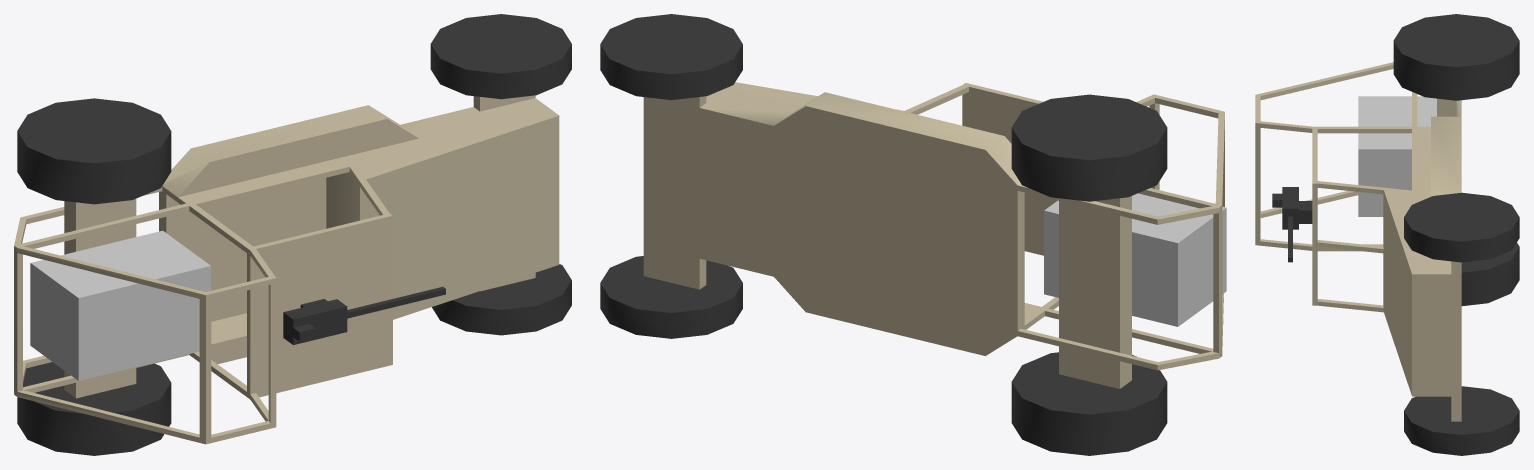
File: lsv.dae
The picture shows the model from 3 angles, left to right: view 1: azimuth 30°, elevation 25°; view 2: azimuth 150°, elevation 25°; view 3: azimuth 270°, elevation 25°; orthographic projection. The views are drawn at different scales.
Visible parts, largest first — view 1: coords_ME_ID3_MA_LSV_part_1, coords_ME_ID39_MA_LSV_part_4, coords_ME_ID19_MA_LSV_part_2, coords_ME_ID11_MA_LSV_part_2, coords_ME_ID53_MA_LSV_part_2, coords_ME_ID25_MA_LSV_part_2, coords_ME_ID59_MA_LSV_part_3, coords_ME_ID47_MA_LSV_part_3; view 2: coords_ME_ID3_MA_LSV_part_1, coords_ME_ID19_MA_LSV_part_2, coords_ME_ID53_MA_LSV_part_2, coords_ME_ID39_MA_LSV_part_4, coords_ME_ID11_MA_LSV_part_2, coords_ME_ID25_MA_LSV_part_2; view 3: coords_ME_ID3_MA_LSV_part_1, coords_ME_ID19_MA_LSV_part_2, coords_ME_ID11_MA_LSV_part_2, coords_ME_ID25_MA_LSV_part_2, coords_ME_ID39_MA_LSV_part_4, coords_ME_ID53_MA_LSV_part_2, coords_ME_ID59_MA_LSV_part_3, coords_ME_ID31_MA_LSV_part_3.
Part boxes in pixels (x1,y1,x2,y2): coords_ME_ID3_MA_LSV_part_1: (14, 95, 559, 444); coords_ME_ID39_MA_LSV_part_4: (30, 230, 210, 380); coords_ME_ID19_MA_LSV_part_2: (17, 98, 171, 204); coords_ME_ID11_MA_LSV_part_2: (430, 14, 571, 99); coords_ME_ID53_MA_LSV_part_2: (17, 362, 171, 455); coords_ME_ID25_MA_LSV_part_2: (432, 264, 571, 335); coords_ME_ID59_MA_LSV_part_3: (283, 299, 347, 344); coords_ME_ID47_MA_LSV_part_3: (347, 286, 445, 318); coords_ME_ID3_MA_LSV_part_1: (643, 82, 1224, 388); coords_ME_ID19_MA_LSV_part_2: (1011, 94, 1167, 201); coords_ME_ID53_MA_LSV_part_2: (1011, 352, 1167, 455); coords_ME_ID39_MA_LSV_part_4: (1044, 193, 1226, 326); coords_ME_ID11_MA_LSV_part_2: (600, 14, 742, 99); coords_ME_ID25_MA_LSV_part_2: (600, 256, 742, 338); coords_ME_ID3_MA_LSV_part_1: (1255, 62, 1461, 421); coords_ME_ID19_MA_LSV_part_2: (1393, 14, 1519, 100); coords_ME_ID11_MA_LSV_part_2: (1404, 192, 1519, 262); coords_ME_ID25_MA_LSV_part_2: (1404, 386, 1519, 455); coords_ME_ID39_MA_LSV_part_4: (1358, 96, 1436, 216); coords_ME_ID53_MA_LSV_part_2: (1461, 243, 1519, 306); coords_ME_ID59_MA_LSV_part_3: (1272, 187, 1298, 229); coords_ME_ID31_MA_LSV_part_3: (1299, 201, 1312, 223).
Bounding box in the file's own units: 51.51 × 25.02 × 25.01.
